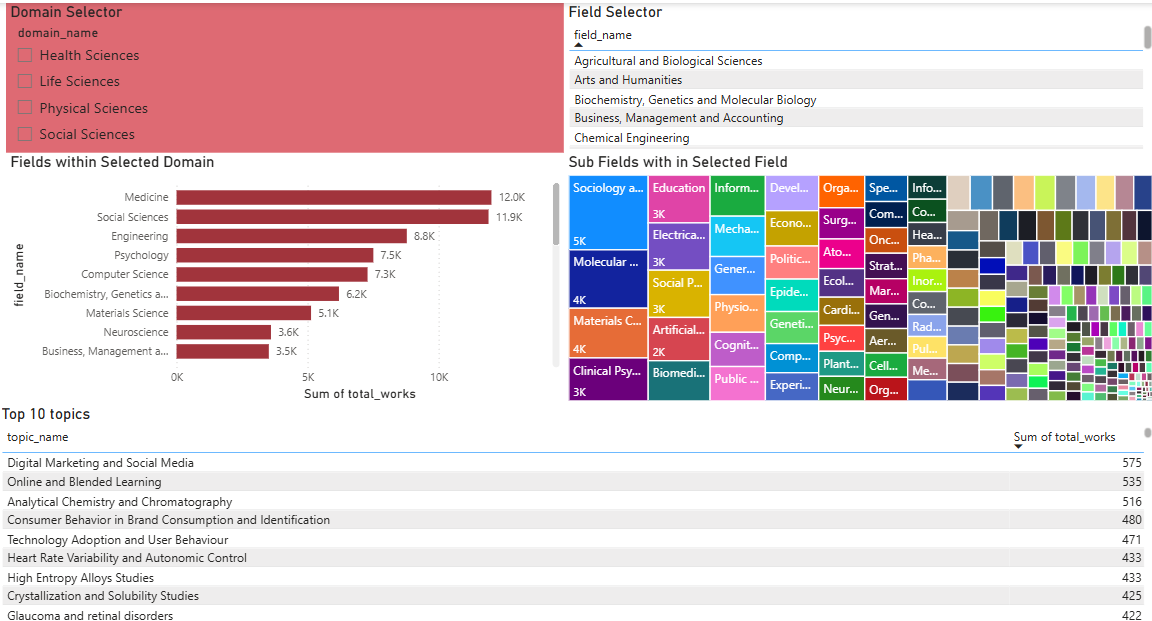

What the dashboard file says about the page in this screenshot:
{"tool":"powerbi","page":{"name":"Research Topics Deep Dive","canvas":[1280,720],"ordinal":2},"visuals":[{"type":"slicer","title":"Domain Selector","fields":{"Values":["domain_field_stats.domain_name"]},"box":[9.9,0,616.2,165.6],"z":0},{"type":"tableEx","title":"Field Selector","fields":{"Values":["domain_field_subfield_stats.field_name"]},"box":[626.1,0,654.3,165.6],"z":1000},{"type":"clusteredBarChart","title":"Fields within Selected Domain","fields":{"Category":["domain_field_stats.field_name"],"Y":["Sum(domain_field_stats.total_works)"]},"box":[9.9,165.6,616.2,278.3],"z":2000},{"type":"treemap","title":"Sub Fields with in Selected Field","fields":{"Values":["Sum(domain_field_subfield_stats.total_works)"],"Group":["domain_field_subfield_stats.subfield_name"]},"box":[626.1,165.6,654.3,278.3],"z":3000},{"type":"tableEx","title":"Top 10 topics","fields":{"Values":["domain_field_subfieled_topic_stats.topic_name","Sum(domain_field_subfieled_topic_stats.total_works)"]},"box":[0,443.9,1280.5,266.7],"z":4000}]}

Visuals, with their boxes on the page's 1280x720 design canvas (x1, y1, x2, y2). These are canvas units, not pixel positions in the 1152x621 screenshot, which may show the page scaled, cropped or inside an application window:
"Domain Selector" slicer: <region>10, 0, 626, 166</region>
"Field Selector" tableEx: <region>626, 0, 1280, 166</region>
"Fields within Selected Domain" clusteredBarChart: <region>10, 166, 626, 444</region>
"Sub Fields with in Selected Field" treemap: <region>626, 166, 1280, 444</region>
"Top 10 topics" tableEx: <region>0, 444, 1280, 711</region>
